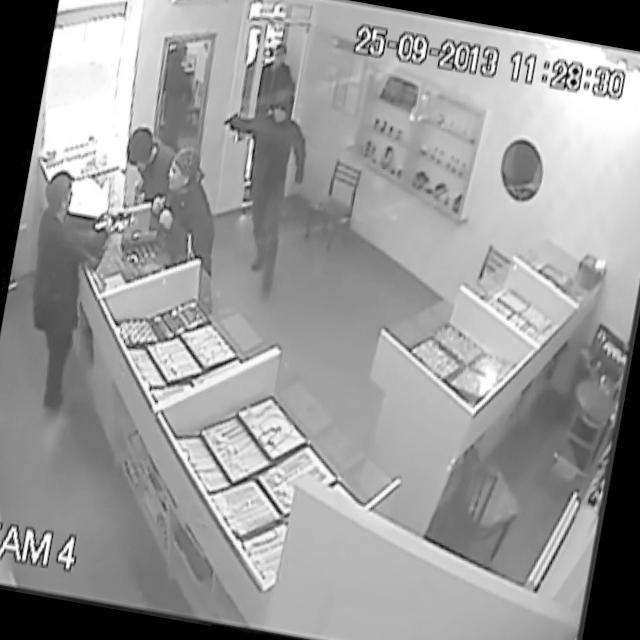gun: (220, 100, 251, 145)
person: (2, 160, 124, 422), (113, 106, 176, 204), (158, 139, 211, 230), (248, 32, 306, 92)
person with a gun: (194, 74, 336, 306)
